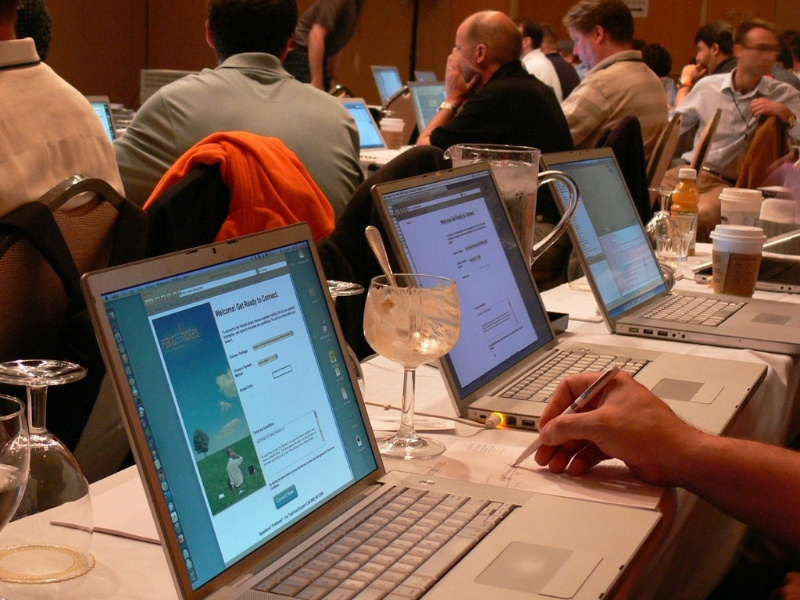laptop: (89, 220, 636, 600), (537, 144, 800, 358)
